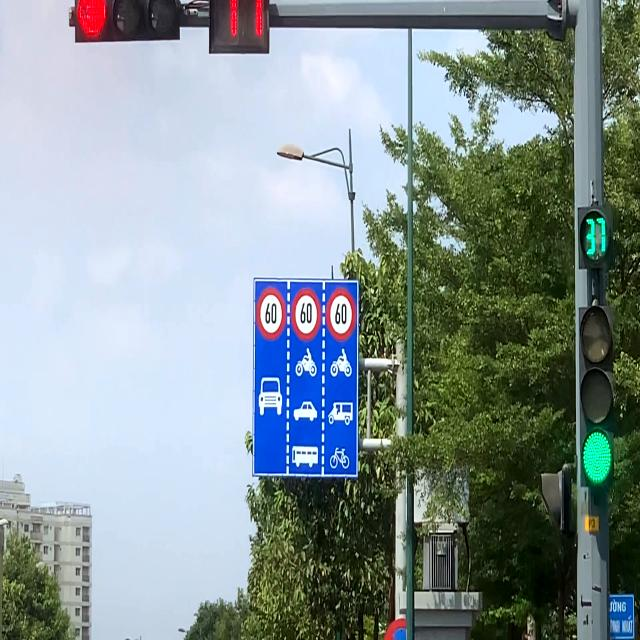P.127: (325, 288, 356, 342), (256, 286, 286, 341), (291, 288, 321, 341)
